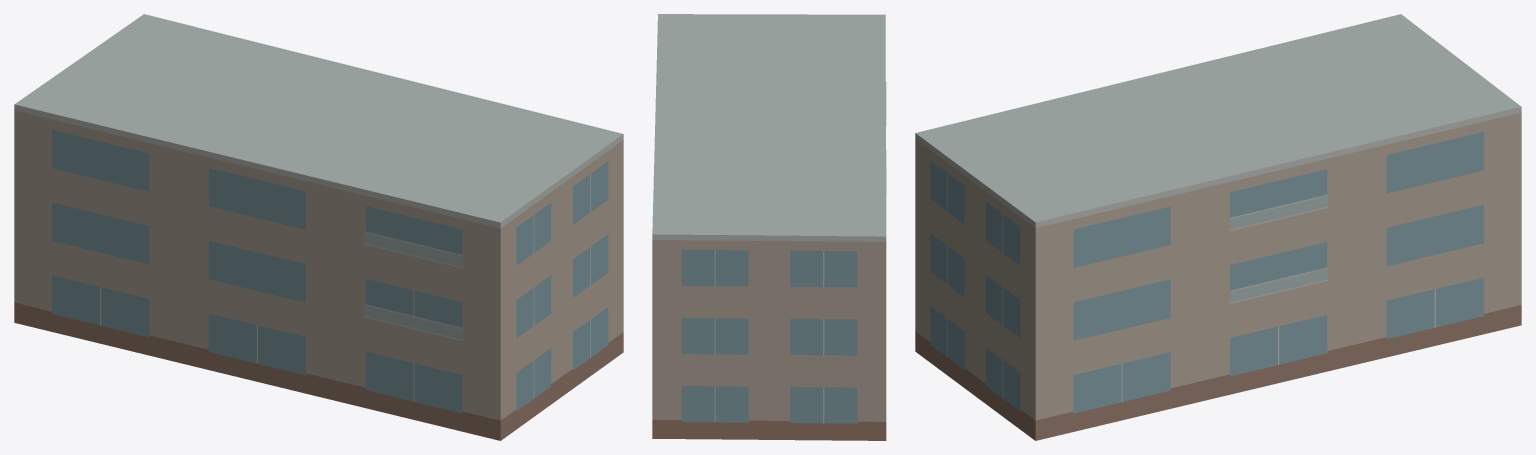
Rendered from survey-upis-32592431.glb.
3 renders of one model, left to right at view 1: azimuth 30°, elevation 25°; view 2: azimuth 150°, elevation 25°; view 3: azimuth 270°, elevation 25°, orthographic. The views are drawn at different scales.
Visible parts, largest first — view 1: survey-upis-32592431.tmp; view 2: survey-upis-32592431.tmp; view 3: survey-upis-32592431.tmp.
Boxes of the visible parts, x1=… form: survey-upis-32592431.tmp: x1=14, y1=14, x2=623, y2=440; survey-upis-32592431.tmp: x1=652, y1=14, x2=886, y2=440; survey-upis-32592431.tmp: x1=915, y1=14, x2=1521, y2=440.
Bounding box in the file's own units: 18.73 × 9.15 × 23.02.
